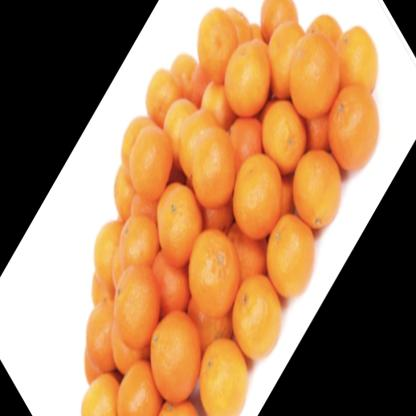fresh: (82, 1, 378, 416)
